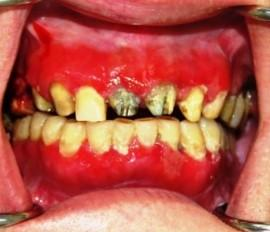Caries: (107, 84, 146, 117), (51, 89, 76, 118)
Gingivitis: (38, 36, 241, 100), (44, 148, 220, 186), (184, 121, 208, 160)
